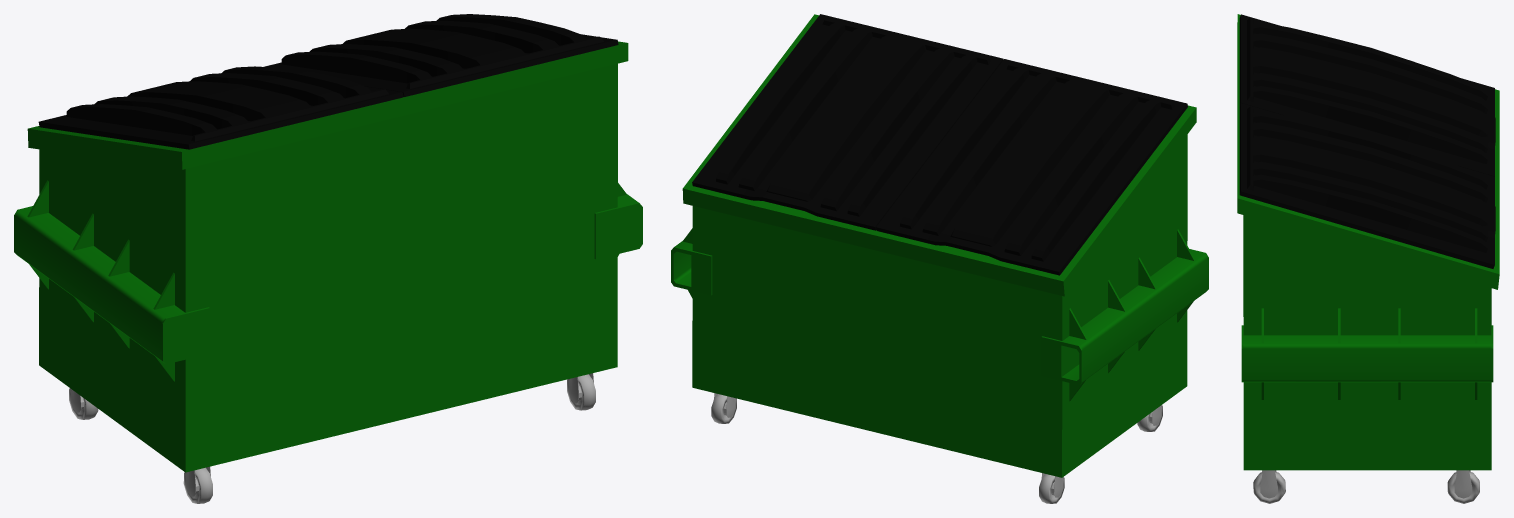
The model's file is Dumpster.fbx.
The picture shows the model from 3 angles, left to right: view 1: azimuth 30°, elevation 25°; view 2: azimuth 150°, elevation 25°; view 3: azimuth 270°, elevation 25°; orthographic projection. The views are drawn at different scales.
Visible parts, largest first — view 1: polySurface20, DumpsterLidRight, DumpsterLidLeft, polySurface21, polySurface11; view 2: polySurface20, DumpsterLidRight, DumpsterLidLeft, polySurface21, polySurface11; view 3: polySurface20, DumpsterLidLeft, DumpsterLidRight, polySurface21, polySurface25 (×2), polySurface26 (×2), polySurface11.
Boxes of the visible parts, <box> form: polySurface20: <box>27,41,628,472</box>; DumpsterLidRight: <box>38,66,403,149</box>; DumpsterLidLeft: <box>264,14,618,96</box>; polySurface21: <box>14,194,642,364</box>; polySurface11: <box>27,180,626,381</box>; polySurface20: <box>682,14,1196,477</box>; DumpsterLidRight: <box>876,59,1187,275</box>; DumpsterLidLeft: <box>692,14,1003,230</box>; polySurface21: <box>671,241,1208,384</box>; polySurface11: <box>682,228,1195,401</box>; polySurface20: <box>1237,14,1499,470</box>; DumpsterLidLeft: <box>1239,103,1495,268</box>; DumpsterLidRight: <box>1239,14,1495,176</box>; polySurface21: <box>1241,325,1493,382</box>; polySurface25 (×2): <box>1253,471,1479,503</box>; polySurface26 (×2): <box>1260,470,1472,498</box>; polySurface11: <box>1261,308,1477,399</box>.
Size of the model in its own units: 11.11 by 8.39 by 6.22.
